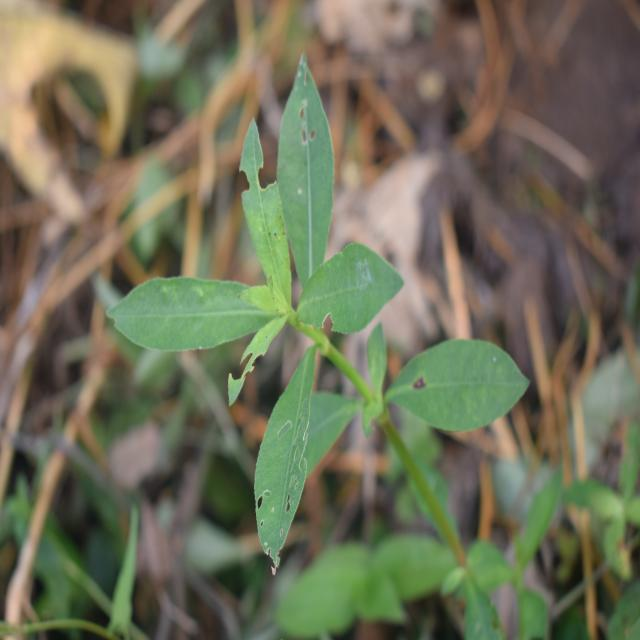Alligatorweed: (136, 81, 454, 538)
